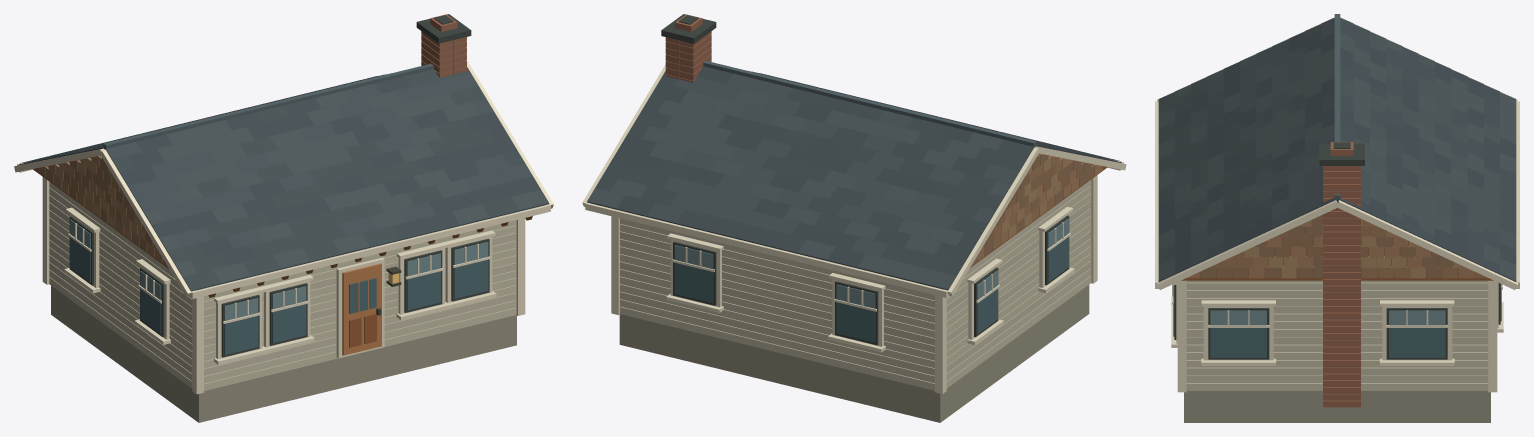
File: craftsman.glb
The picture shows the model from 3 angles, left to right: view 1: azimuth 30°, elevation 25°; view 2: azimuth 150°, elevation 25°; view 3: azimuth 270°, elevation 25°; orthographic projection. The views are drawn at different scales.
Parts seen in each view (by area): view 1: KitCraftsmanRoofFinish, KitCraftsmanDetails, KitCraftsmanSiding; view 2: KitCraftsmanRoofFinish, KitCraftsmanDetails, KitCraftsmanSiding; view 3: KitCraftsmanRoofFinish, KitCraftsmanDetails, KitCraftsmanSiding.
Part boxes in pixels (box(x1,y1,x2,y2)): KitCraftsmanRoofFinish: box(18, 63, 549, 291); KitCraftsmanDetails: box(14, 14, 553, 422); KitCraftsmanSiding: box(49, 182, 516, 390); KitCraftsmanRoofFinish: box(587, 61, 1121, 290); KitCraftsmanDetails: box(582, 14, 1126, 422); KitCraftsmanSiding: box(620, 180, 1091, 390); KitCraftsmanRoofFinish: box(1158, 14, 1516, 281); KitCraftsmanDetails: box(1155, 17, 1519, 422); KitCraftsmanSiding: box(1186, 280, 1488, 390).
Bounding box in the file's own units: 9.46 × 6.65 × 7.87.
